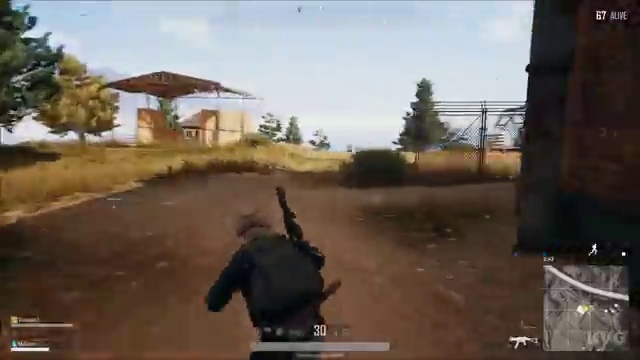Player: (179, 178, 362, 315)
